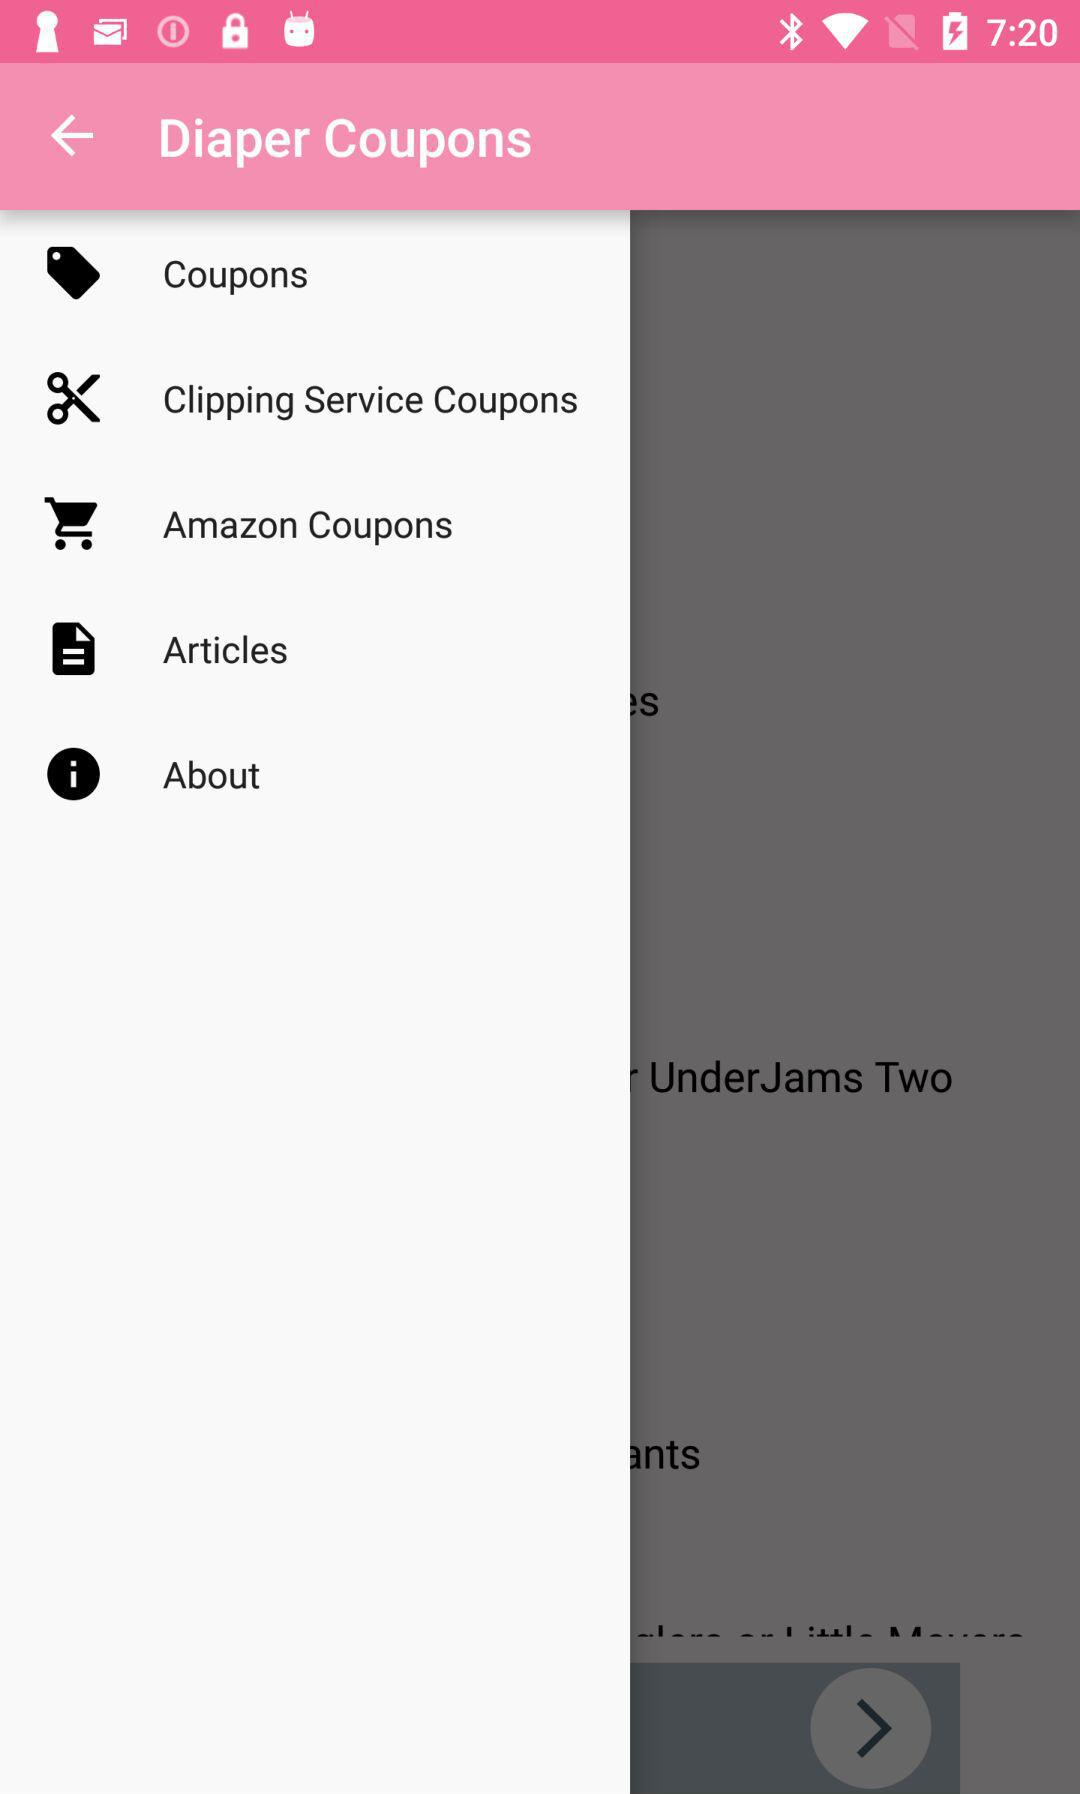Drawer: (1, 211, 630, 1794)
Icon: (44, 496, 100, 552), (47, 246, 102, 302), (47, 747, 102, 801), (53, 621, 97, 677), (50, 114, 95, 158)
Image: (46, 372, 102, 427)
Text: (160, 117, 533, 170), (164, 383, 578, 423), (161, 510, 454, 547), (165, 260, 309, 297), (161, 634, 290, 666), (163, 759, 263, 792)
Toolbar: (1, 64, 1080, 211)
UpperTaskBar: (1, 1, 1080, 64)
